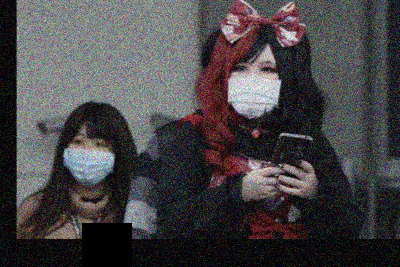with_mask: (224, 57, 282, 119), (62, 130, 117, 188)
